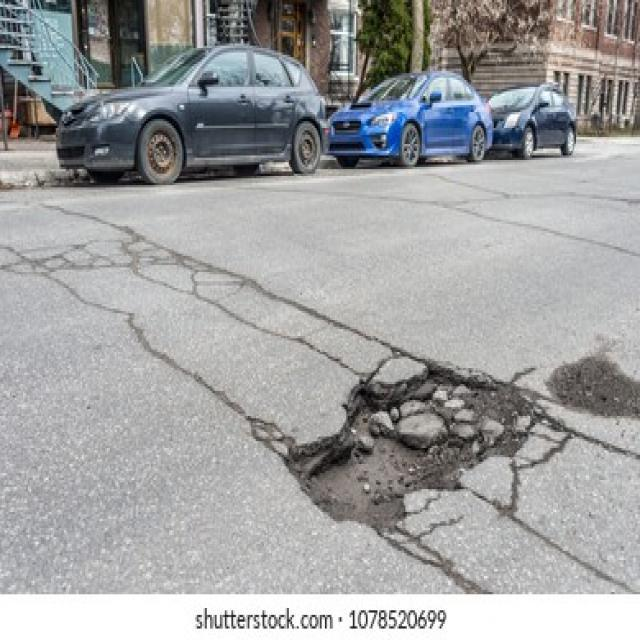Pothole: (288, 363, 528, 528), (553, 356, 640, 421)
